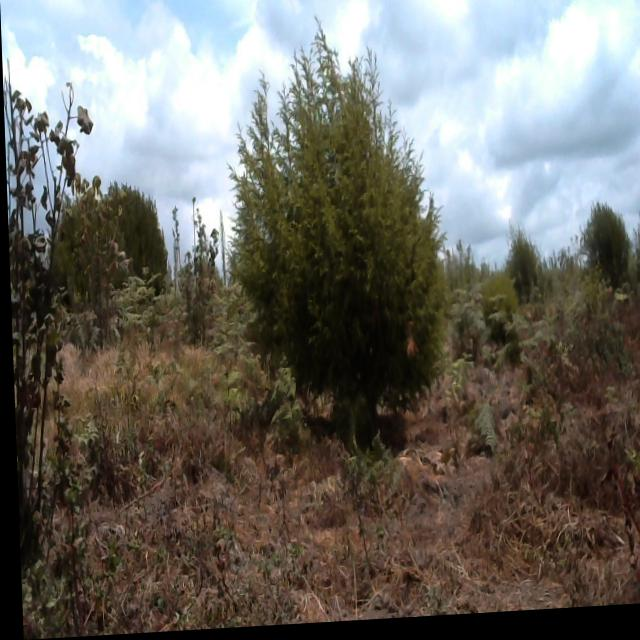cedrus: (232, 36, 480, 461), (51, 188, 175, 307), (579, 205, 639, 293), (500, 213, 550, 305), (477, 256, 520, 338)
other: (2, 61, 99, 518)
